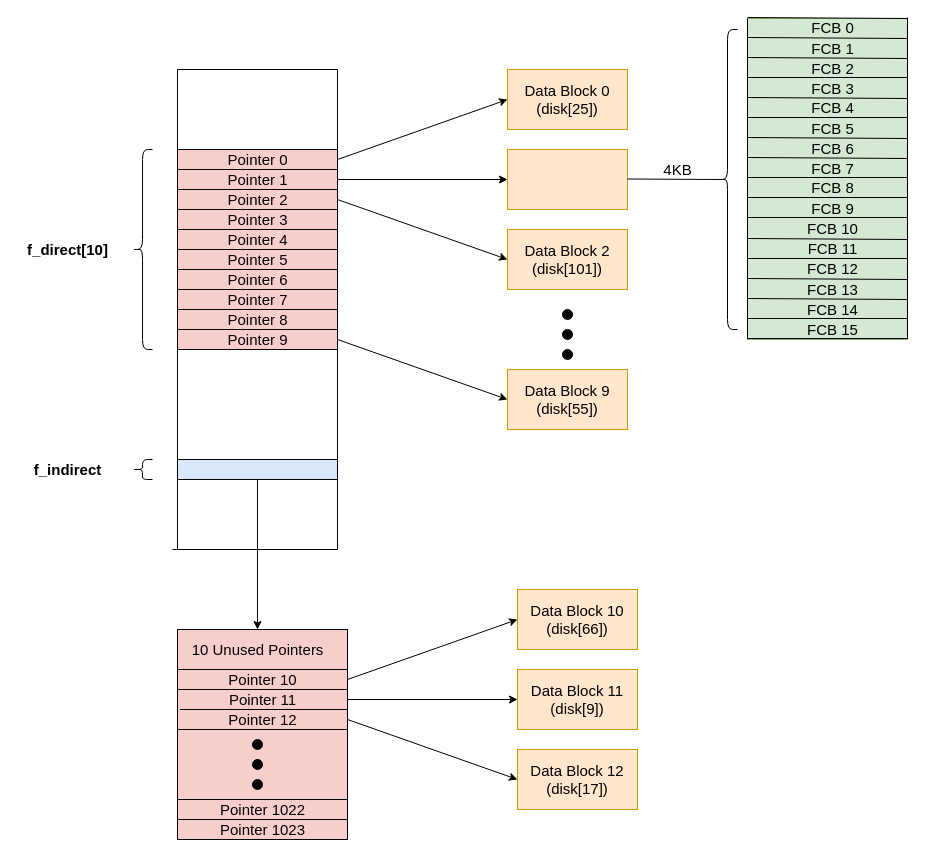
This 926x858 diagram has some shape labels left out. Here are the shapes that lost their labels. From the top down, the centre of each, then its label:
At (x=567, y=179): "Data Block 1 (disk[5])".
At (x=257, y=469): "Indirect Pointer".
